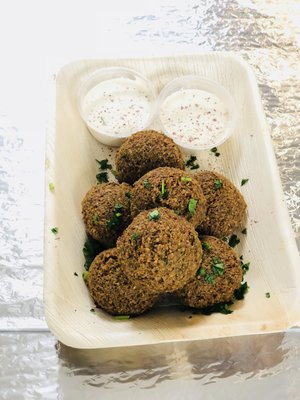sushi: (78, 65, 157, 147)
